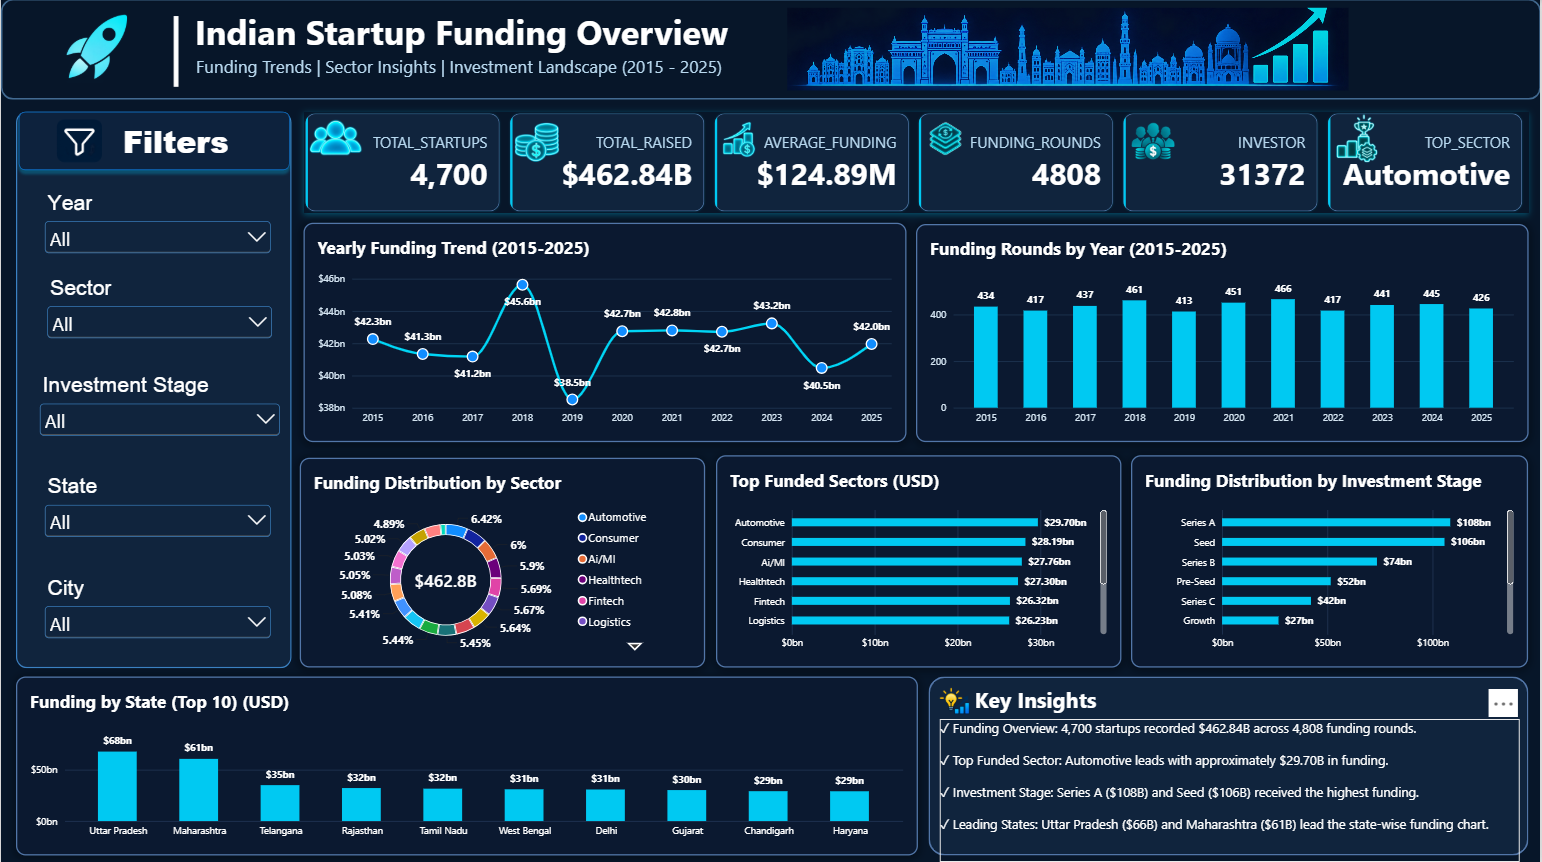

Layout of this report page (visuals, bound fields, positions):
{"tool":"powerbi","page":{"name":"Indian Startup Funding Overview","canvas":[1920,1080],"ordinal":0},"visuals":[{"type":"shape","box":[0,0,1920.4,125.6],"z":0},{"type":"textbox","box":[20.9,0,395.9,352.3],"z":1000},{"type":"textbox","box":[242.4,68,664.5,34.9],"z":2000},{"type":"textbox","box":[218,10.5,842.4,102.9],"z":3000},{"type":"image","box":[50.6,3.5,139.5,109.9],"z":4000},{"type":"image","box":[980.2,10.5,700,102.9],"z":5000},{"type":"cardVisual","fields":{"Data":["indian_startup_funding.TOTAL_STARTUP_DISPLAY","indian_startup_funding.TOTAL_FUNDING_DISPLAY","indian_startup_funding.AVERAGE_FUNDING","indian_startup_funding.TOTAL_FUNDING_ROUNDS","indian_startup_funding.TOTAL_INVESTORS","indian_startup_funding.TOP_FUNDED_SECTOR"]},"box":[376.7,139.5,1527.9,127.3],"z":6000},{"type":"image","box":[368,109.9,99.4,123.8],"z":7000},{"type":"image","box":[619.2,137.8,101.2,83.7],"z":8000},{"type":"image","box":[879.1,137.8,80.2,76.7],"z":9000},{"type":"image","box":[1140.7,146.5,73.3,55.8],"z":10000},{"type":"image","box":[1397.1,134.3,80.2,85.5],"z":11000},{"type":"image","box":[1643,132.6,95.9,83.7],"z":12000},{"type":"shape","box":[19.2,139.5,343.6,694.2],"z":13000},{"type":"slicer","fields":{"Values":["indian_startup_funding.year"]},"box":[50.6,233.7,291.3,89],"z":14000},{"type":"shape","box":[14,132.6,354.1,89],"z":15000},{"type":"textbox","box":[73.3,151.7,289.5,76.7],"z":16000},{"type":"slicer","fields":{"Values":["indian_startup_funding.sector"]},"box":[52.3,340.1,289.5,99.4],"z":18000},{"type":"slicer","fields":{"Values":["indian_startup_funding.stage"]},"box":[43.6,462.2,308.7,111.6],"z":19000},{"type":"slicer","fields":{"Values":["indian_startup_funding.state"]},"box":[50.6,587.8,291.3,89],"z":20000},{"type":"slicer","fields":{"Values":["indian_startup_funding.city"]},"box":[50.6,713.4,291.3,89],"z":21000},{"type":"lineChart","title":"Yearly Funding Trend (2015-2025)","fields":{"Category":["indian_startup_funding.year"],"Y":["indian_startup_funding.TOTAL_FUNDING_RAISED"]},"box":[376.7,279.1,751.7,273.8],"z":22000},{"type":"clusteredColumnChart","title":"Funding Rounds by Year (2015-2025)","fields":{"Category":["indian_startup_funding.year"],"Y":["indian_startup_funding.TOTAL_FUNDING_ROUNDS"]},"box":[1140.7,280.8,764,272.1],"z":23000},{"type":"donutChart","title":"Funding Distribution by Sector","fields":{"Category":["indian_startup_funding.sector"],"Y":["indian_startup_funding.TOTAL_FUNDING_RAISED"]},"box":[373.3,572.1,505.8,261.6],"z":24000},{"type":"image","box":[50.6,123.8,95.9,106.4],"z":24500},{"type":"clusteredBarChart","title":"Top Funded Sectors (USD)","fields":{"Category":["indian_startup_funding.sector"],"Y":["indian_startup_funding.TOTAL_FUNDING_RAISED"]},"box":[891.3,568.6,505.8,265.1],"z":25000},{"type":"clusteredBarChart","title":"Funding Distribution by Investment Stage","fields":{"Category":["indian_startup_funding.stage"],"Y":["indian_startup_funding.TOTAL_FUNDING_RAISED"]},"box":[1409.3,568.6,495.4,265.1],"z":26000},{"type":"clusteredColumnChart","title":"Funding by State (Top 10) (USD)","fields":{"Category":["indian_startup_funding.state"],"Y":["indian_startup_funding.TOTAL_FUNDING_RAISED"]},"box":[19.2,844.2,1125,223.3],"z":27000},{"type":"shape","box":[1156.4,844.2,748.3,223.3],"z":28000},{"type":"textbox","box":[1214,856.4,160.5,41.9],"z":29000},{"type":"textbox","box":[1170.4,898.3,723.8,179.7],"z":30000},{"type":"image","box":[1140.7,856.4,97.7,41.9],"z":31000}]}

Visuals, with their boxes in screenshot pixels (x1, y1, x2, y2), scaled from the page's 1920x1080 canvas onto the 1542x862 screenshot:
shape: region(0, 0, 1541, 100)
textbox: region(17, 0, 335, 281)
textbox: region(195, 54, 728, 82)
textbox: region(175, 8, 852, 91)
image: region(41, 3, 153, 91)
image: region(787, 8, 1349, 91)
cardVisual - indian_startup_funding.TOTAL_STARTUP_DISPLAY x indian_startup_funding.TOTAL_FUNDING_DISPLAY: region(303, 111, 1530, 213)
image: region(296, 88, 375, 187)
image: region(497, 110, 579, 177)
image: region(706, 110, 770, 171)
image: region(916, 117, 975, 161)
image: region(1122, 107, 1186, 175)
image: region(1320, 106, 1397, 173)
shape: region(15, 111, 291, 665)
slicer - indian_startup_funding.year: region(41, 187, 275, 258)
shape: region(11, 106, 296, 177)
textbox: region(59, 121, 291, 182)
slicer - indian_startup_funding.sector: region(42, 271, 275, 351)
slicer - indian_startup_funding.stage: region(35, 369, 283, 458)
slicer - indian_startup_funding.state: region(41, 469, 275, 540)
slicer - indian_startup_funding.city: region(41, 569, 275, 640)
"Yearly Funding Trend (2015-2025)" lineChart: region(303, 223, 906, 441)
"Funding Rounds by Year (2015-2025)" clusteredColumnChart: region(916, 224, 1530, 441)
"Funding Distribution by Sector" donutChart: region(300, 457, 706, 665)
image: region(41, 99, 118, 184)
"Top Funded Sectors (USD)" clusteredBarChart: region(716, 454, 1122, 665)
"Funding Distribution by Investment Stage" clusteredBarChart: region(1132, 454, 1530, 665)
"Funding by State (Top 10) (USD)" clusteredColumnChart: region(15, 674, 919, 852)
shape: region(929, 674, 1530, 852)
textbox: region(975, 684, 1104, 717)
textbox: region(940, 717, 1521, 860)
image: region(916, 684, 995, 717)
